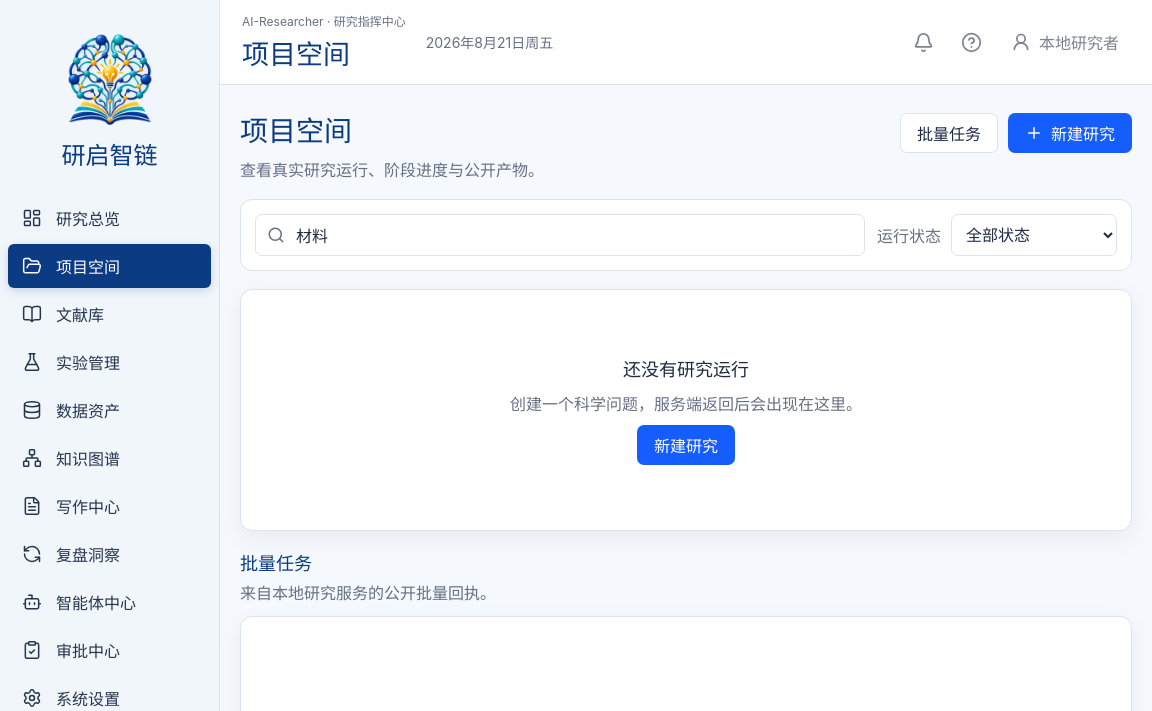
Test: creates a trimmed run with the exact default payload and selects the server result
Step 1. Click the 1st button "新建研究" → point(1070, 133), box [1008,113,1132,153]
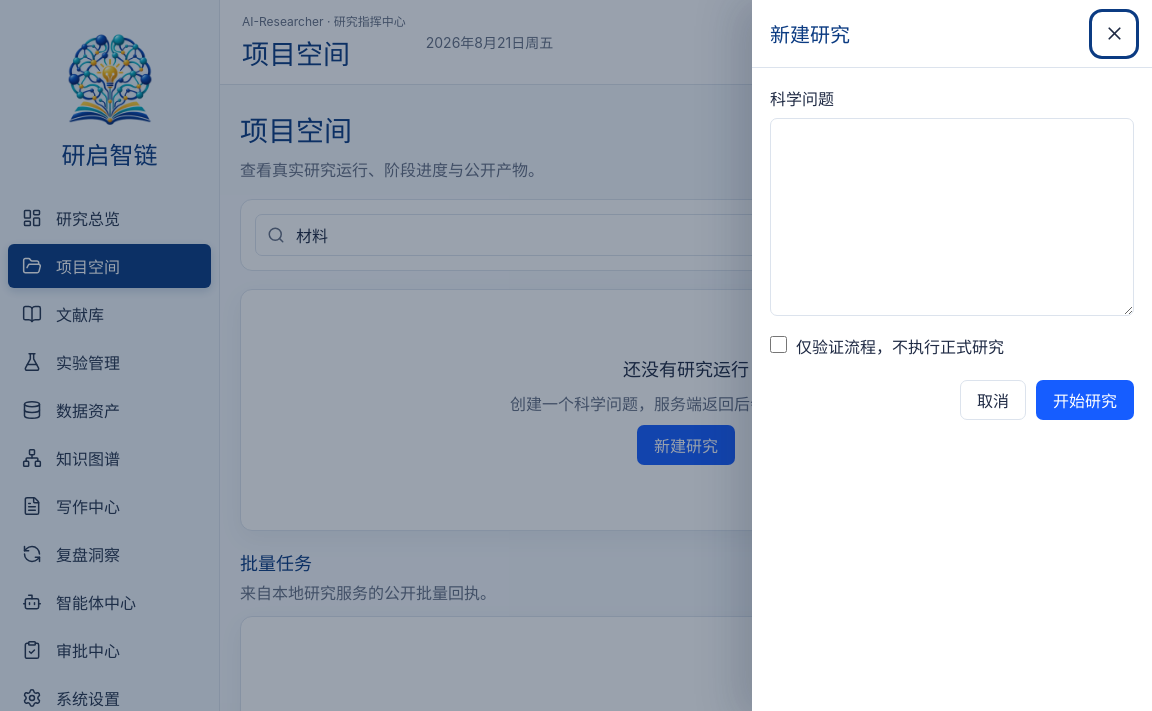
Step 2. Type "  新问题  " into the text box labelled "科学问题" → point(952, 217), box [770,118,1134,316]
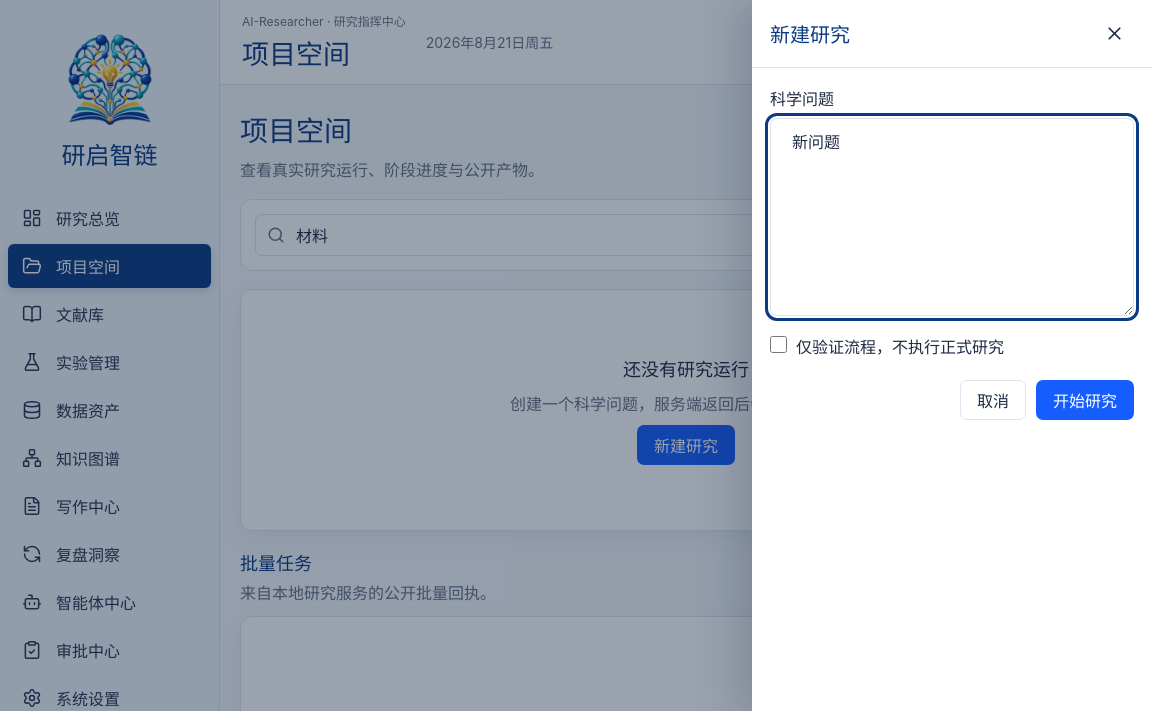
Step 3. Click the button "开始研究" → point(1085, 400), box [1036,380,1134,420]
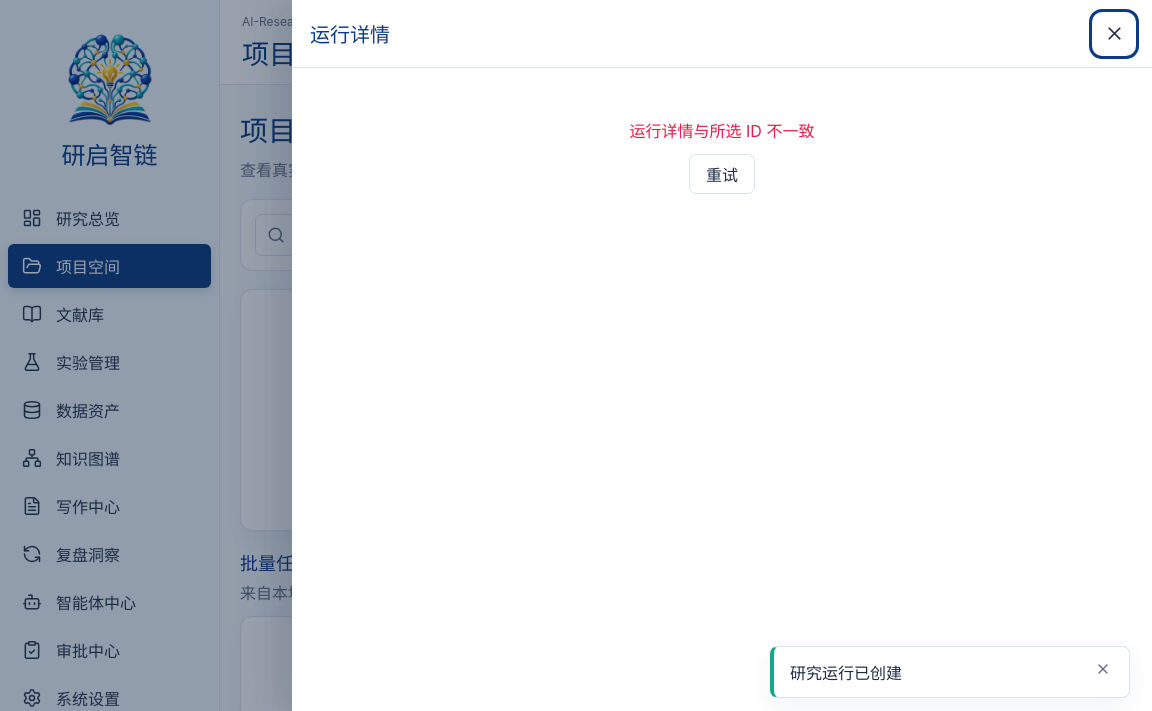
Now the text "研究运行已创建" is shown, box [790,663,902,683]
